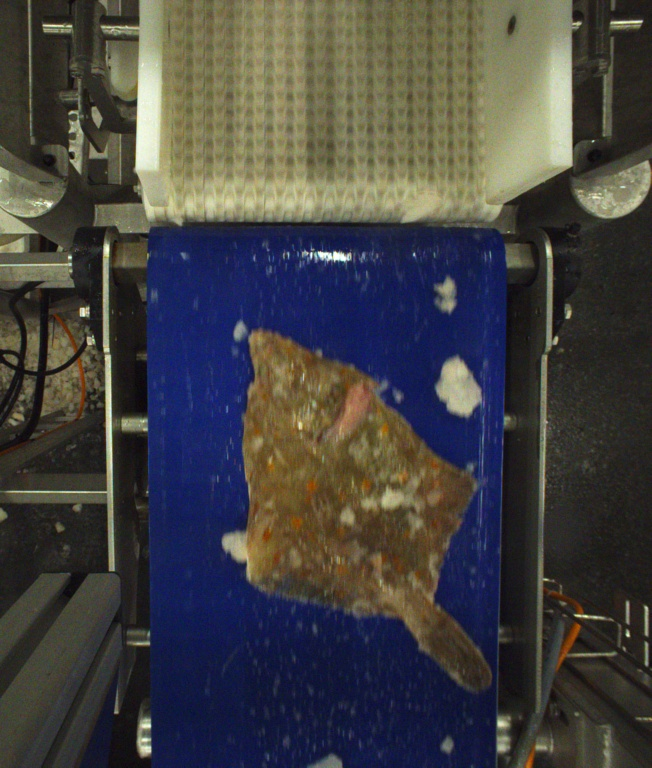PLE: (243, 329, 494, 697)
